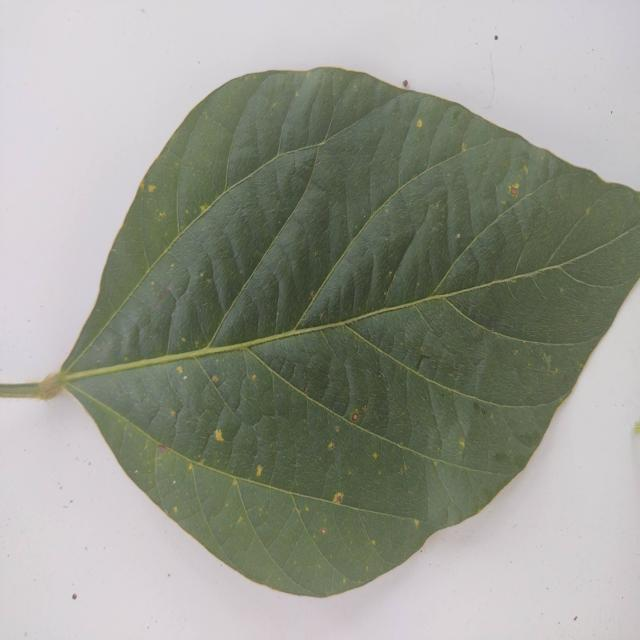Soybean: (0, 67, 640, 602)
downey_mildew: (148, 215, 240, 346), (529, 15, 638, 123), (341, 398, 411, 511), (196, 412, 246, 475), (138, 174, 175, 253), (318, 382, 361, 442), (498, 157, 534, 211), (54, 475, 84, 509), (319, 439, 349, 465), (152, 282, 173, 310), (493, 450, 510, 463), (542, 353, 552, 368), (333, 492, 344, 504), (450, 111, 460, 121), (148, 184, 156, 193), (157, 444, 166, 452), (176, 365, 183, 374), (416, 119, 423, 128), (461, 143, 467, 152), (476, 507, 483, 514), (459, 440, 465, 448), (200, 205, 206, 213), (139, 181, 144, 190), (523, 165, 528, 174), (513, 349, 519, 356), (320, 528, 326, 535), (302, 387, 308, 394), (188, 463, 193, 471), (586, 207, 591, 215), (296, 508, 301, 515), (304, 506, 309, 513), (173, 506, 178, 513), (559, 287, 564, 294), (435, 202, 440, 209), (388, 270, 393, 277), (419, 346, 424, 353), (123, 356, 129, 361), (171, 410, 176, 416), (342, 578, 347, 584), (306, 71, 311, 77), (215, 265, 220, 271), (310, 290, 314, 297), (365, 565, 369, 572), (181, 337, 186, 342), (199, 272, 204, 277), (111, 248, 116, 253), (501, 200, 506, 205), (490, 413, 494, 419), (272, 102, 276, 108), (295, 91, 299, 97), (579, 363, 583, 368), (399, 441, 403, 446), (385, 208, 389, 213), (318, 564, 321, 569)
